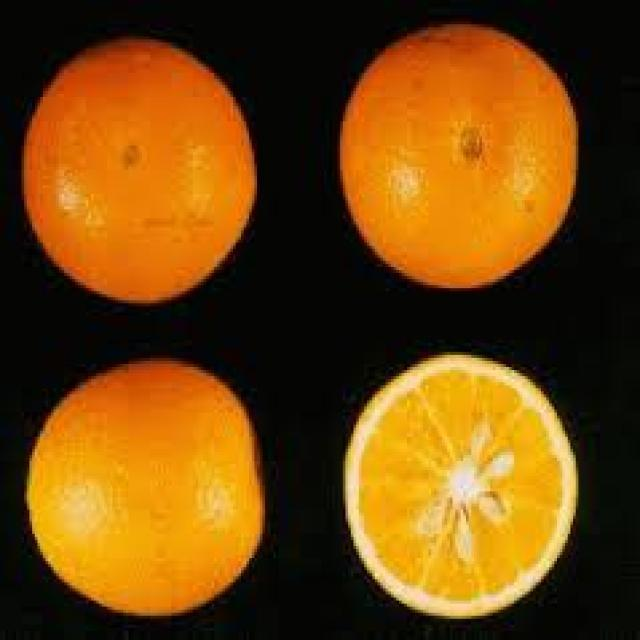Orange: (19, 34, 258, 304), (338, 21, 578, 288), (340, 352, 578, 619), (24, 355, 265, 616)
